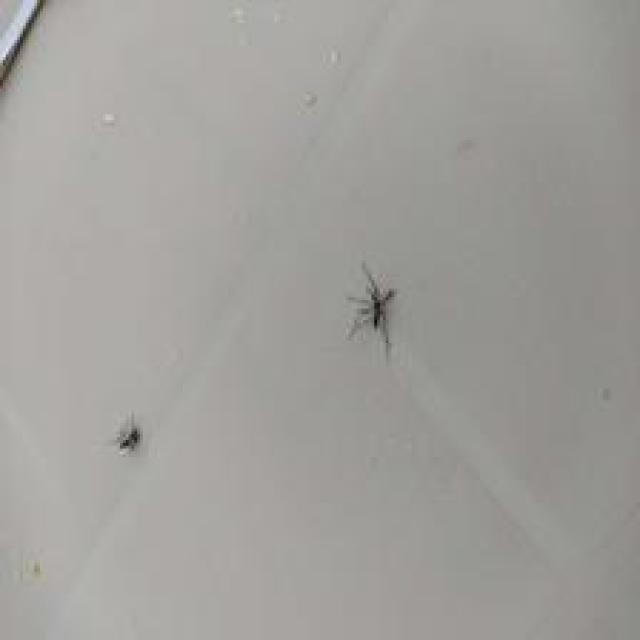Aedes albopictus: (346, 260, 397, 354)
